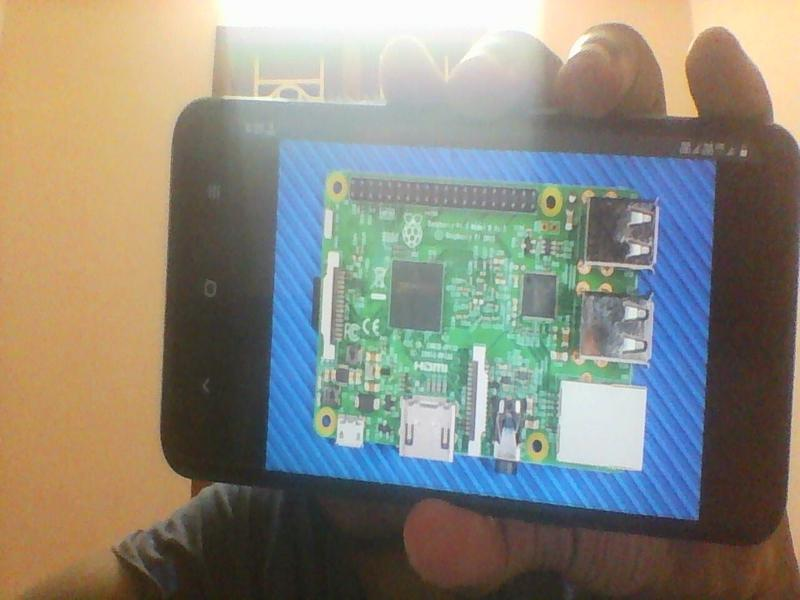aud: (491, 393, 524, 475)
eth: (557, 377, 649, 475)
usb: (575, 291, 655, 367), (582, 195, 659, 269)
